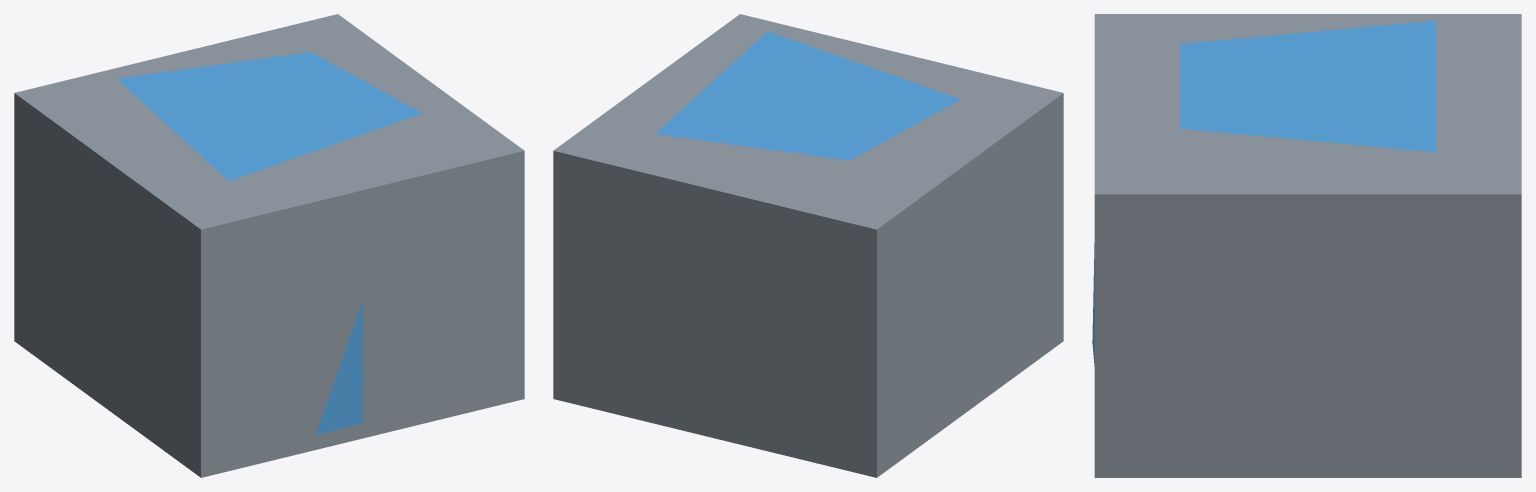
Rendered from AL_TechCenter_LOD1.glb.
3 renders of one model, left to right at view 1: azimuth 30°, elevation 25°; view 2: azimuth 150°, elevation 25°; view 3: azimuth 270°, elevation 25°, orthographic. The views are drawn at different scales.
Visible parts, largest first — view 1: EntranceGate; view 2: EntranceGate; view 3: EntranceGate.
Part boxes in pixels (<box>): EntranceGate: <box>14,14,524,477</box>; EntranceGate: <box>553,14,1063,477</box>; EntranceGate: <box>1092,14,1521,477</box>.
Size of the model in its own units: 600 by 486 by 603.
